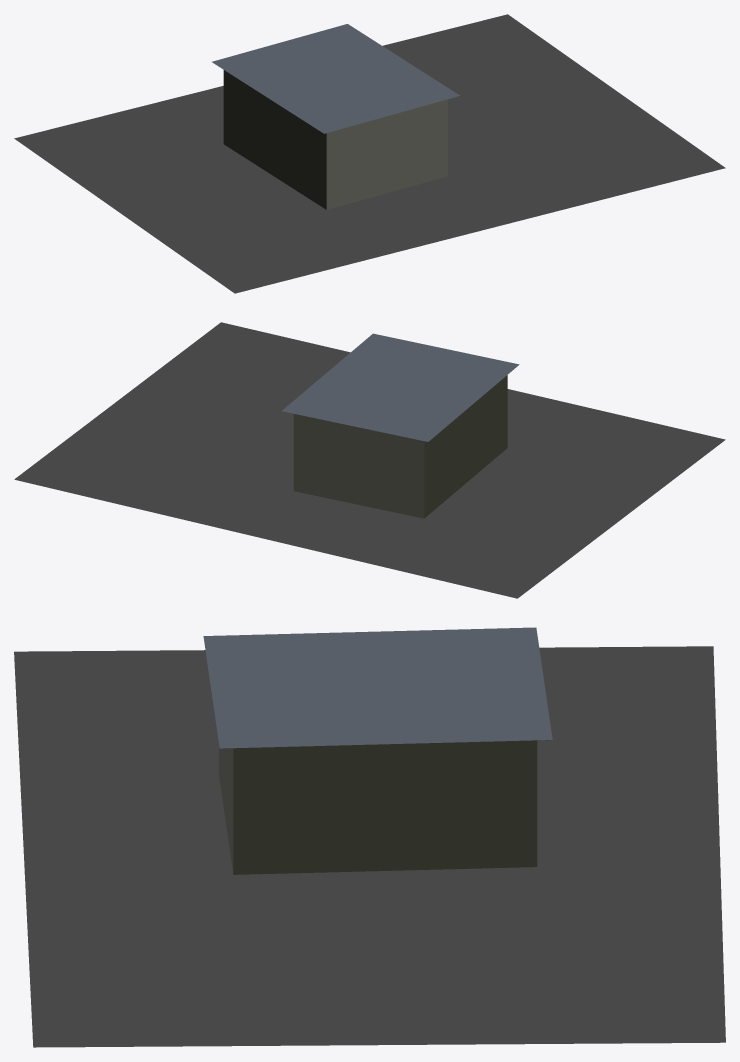
Rendered from 820-broad-st.glb.
The picture shows the model from 3 angles, top to bottom: view 1: azimuth 30°, elevation 25°; view 2: azimuth 150°, elevation 25°; view 3: azimuth 270°, elevation 25°; orthographic projection. The views are drawn at different scales.
Visible parts, largest first — view 1: LOD0; view 2: LOD0; view 3: LOD0.
Part boxes in pixels (bbox=[...]): LOD0: bbox=[14, 14, 725, 293]; LOD0: bbox=[14, 322, 725, 598]; LOD0: bbox=[14, 627, 725, 1047].
Size of what is drawn, in the model's own units: 111 by 17.17 by 82.88.
Materials: 2 (2 with a texture image).
